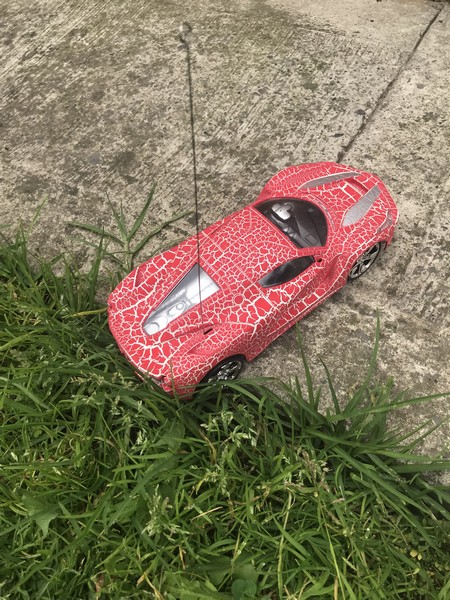RC: (104, 161, 401, 403)
